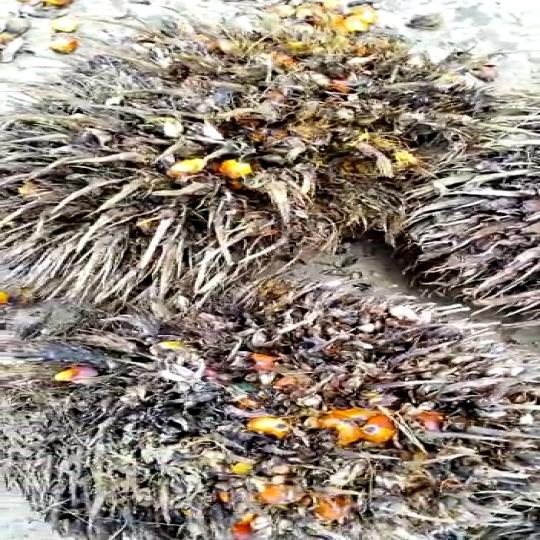terlalu masak: (0, 291, 540, 540), (0, 23, 516, 242)
